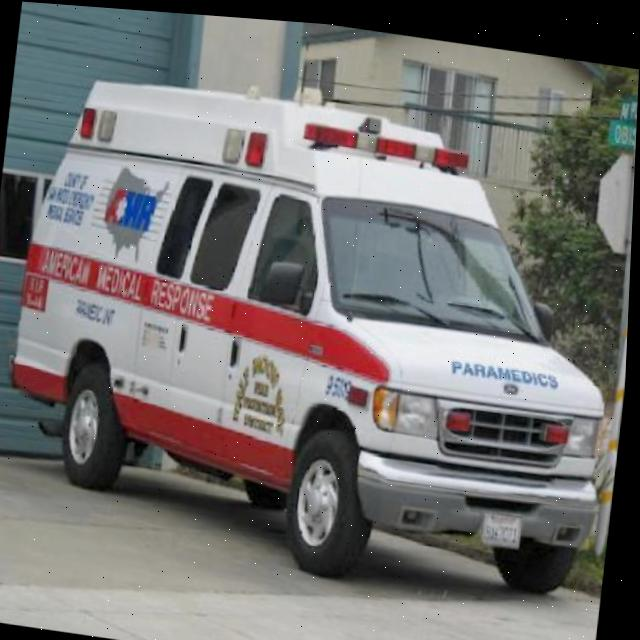emergency: (0, 45, 638, 605)
